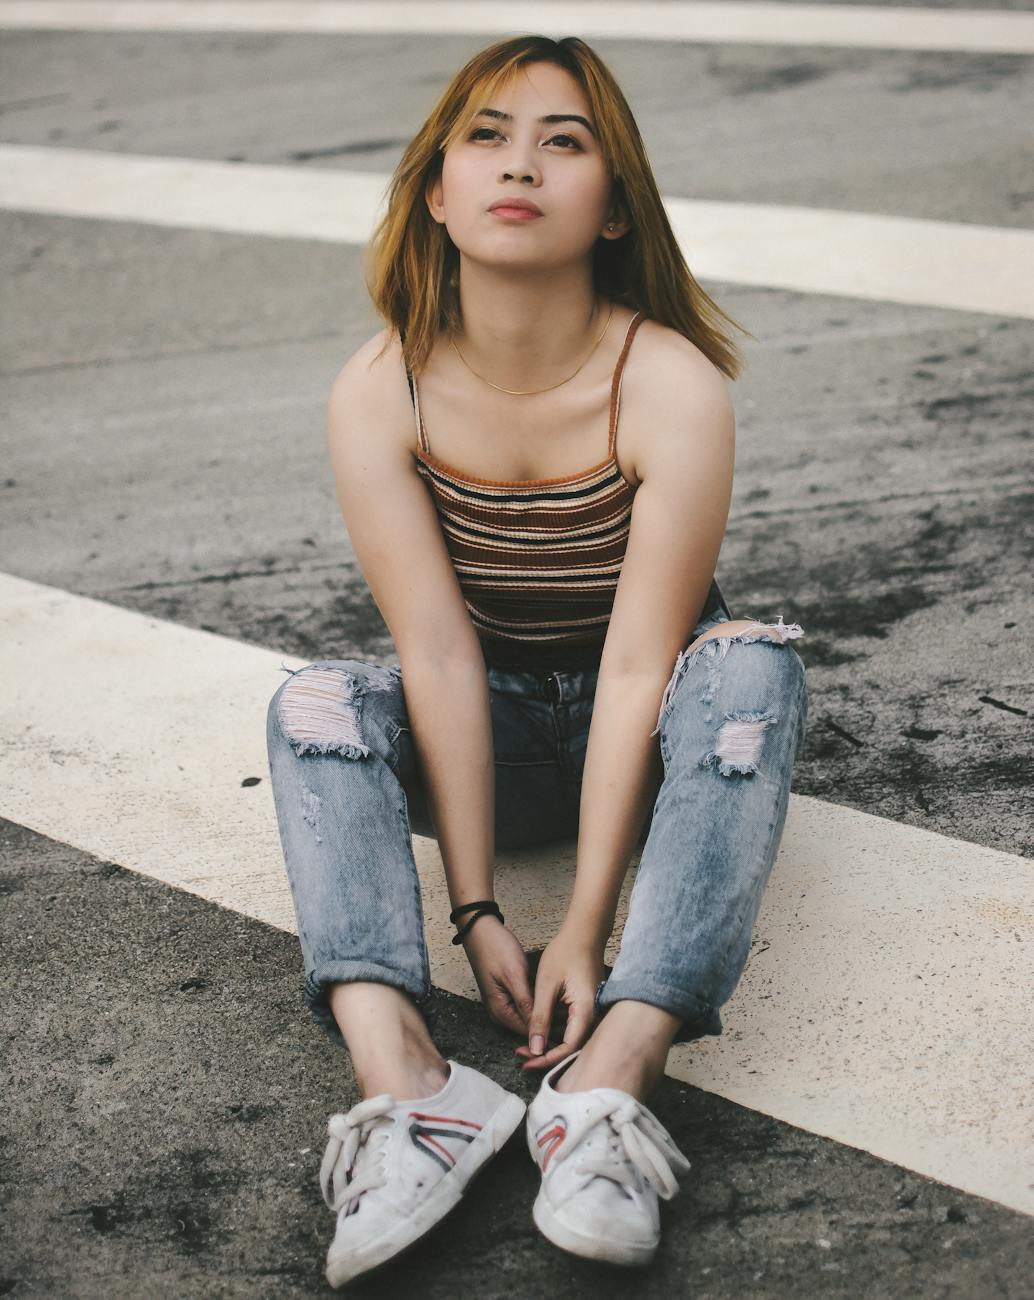ripped_jeans: (238, 656, 453, 963), (616, 607, 800, 929)
sleeveless_top: (353, 304, 696, 605)
